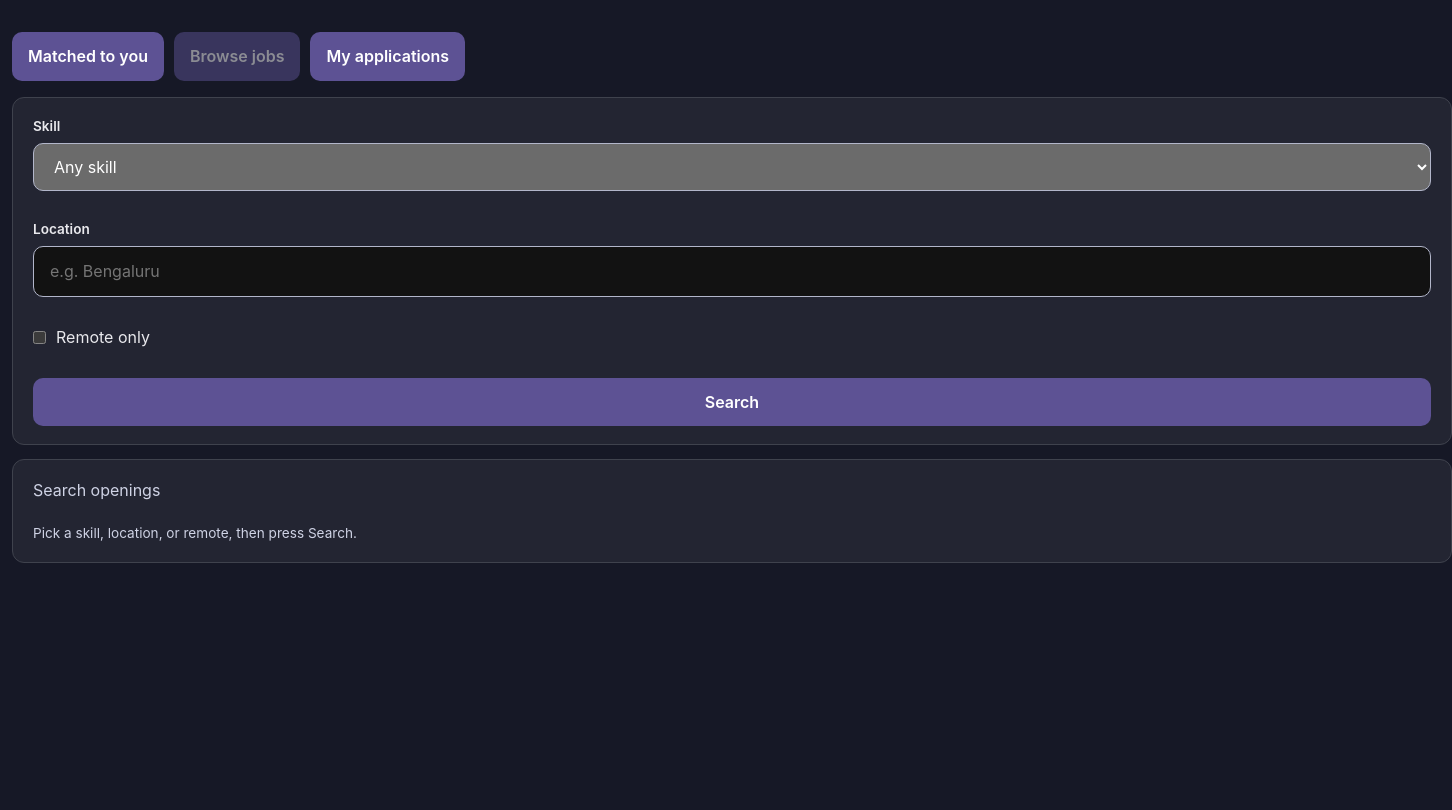
Test: CandidateJobs — Browse tab band display (new: browse never scored before) › renders a band + fraction on Browse, joined from /jobs/matched by job id — no backend change, /jobs/browse itself carries no score
This screenshot has width=1452, height=810.
Click the button "Search" at x=732, y=402, box top-left (33, 378), bottom-right (1431, 426)
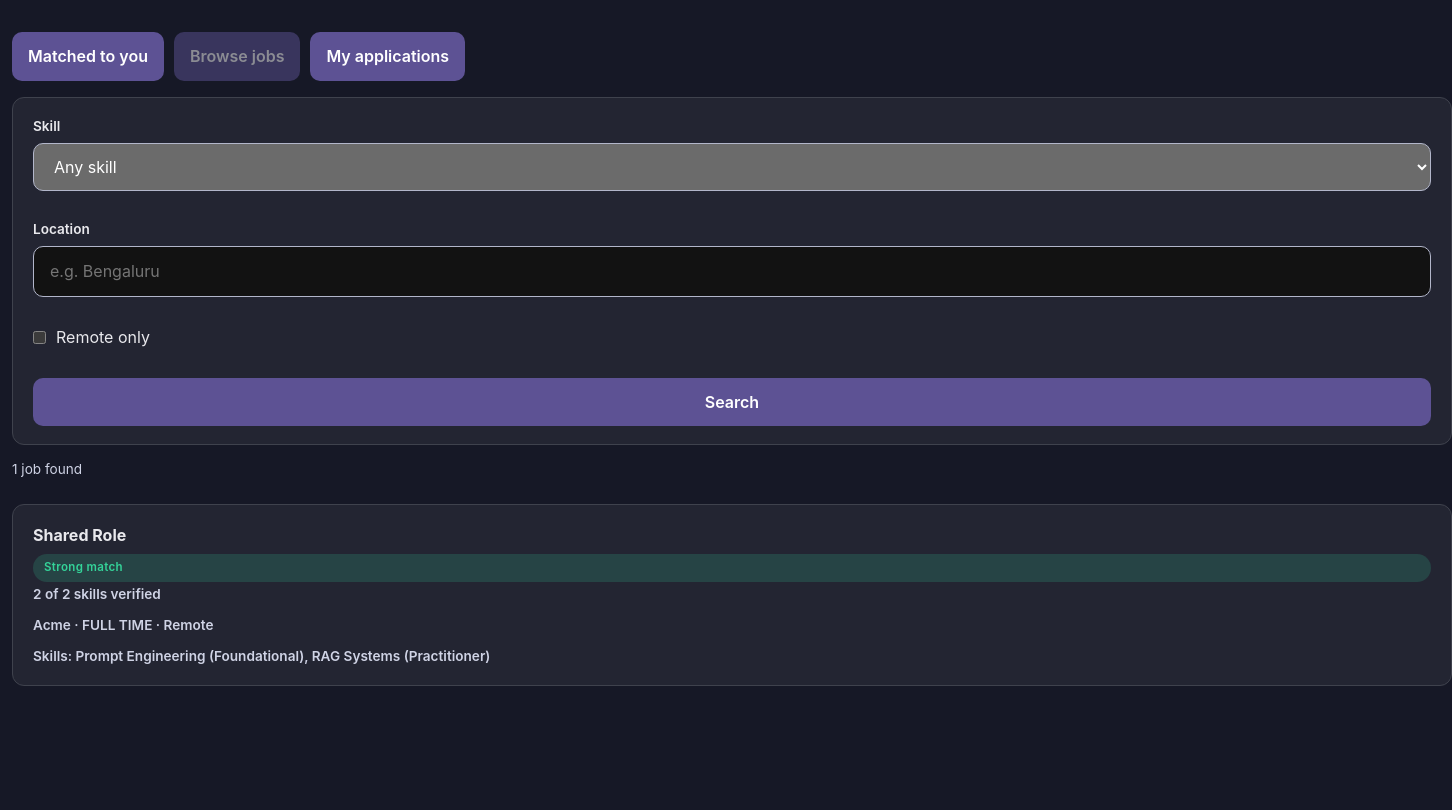
Now the text "Shared Role" is shown, box top-left (33, 523), bottom-right (126, 548)
Now the text "Strong match" is shown, box top-left (33, 554), bottom-right (1431, 582)
Now the text "2 of 2 skills verified" is shown, box top-left (33, 586), bottom-right (161, 602)
